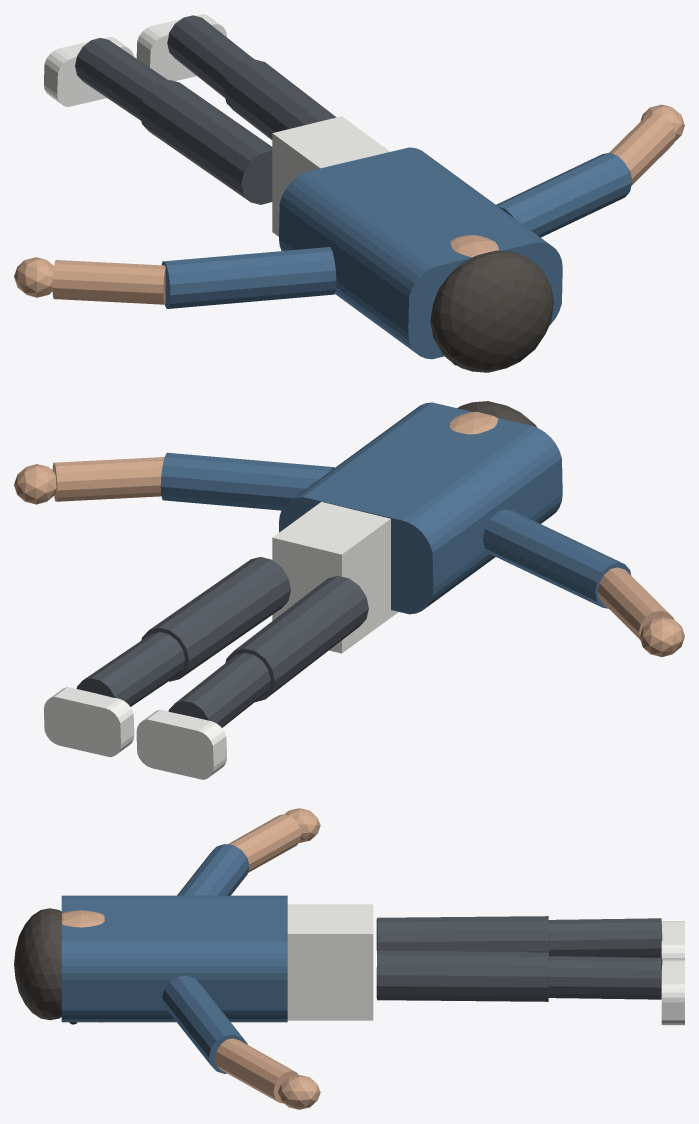
Rendered from CHAR_MALE_001.glb.
The picture shows the model from 3 angles, top to bottom: view 1: azimuth 30°, elevation 25°; view 2: azimuth 150°, elevation 25°; view 3: azimuth 270°, elevation 25°; orthographic projection. The views are drawn at different scales.
Parts seen in each view (by area): view 1: torso_jacket_003, hair_cap_001, thigh_011, upper_arm_005, upper_arm_008, shirt_panel_004, thigh_014, forearm_006, shin_012, shin_015, forearm_009, shoe_013 (+4 smaller); view 2: torso_jacket_003, shirt_panel_004, thigh_014, thigh_011, upper_arm_008, upper_arm_005, shoe_013, shoe_016, shin_015, forearm_009, shin_012, forearm_006 (+4 smaller); view 3: torso_jacket_003, shirt_panel_004, thigh_014, thigh_011, shin_015, hair_cap_001, shin_012, upper_arm_008, forearm_009, upper_arm_005, forearm_006, shoe_016 (+4 smaller).
Boxes of the visible parts, <box> form: torso_jacket_003: <box>279,147,562,359</box>; hair_cap_001: <box>430,250,553,372</box>; thigh_011: <box>139,80,272,204</box>; upper_arm_005: <box>161,247,336,308</box>; upper_arm_008: <box>496,152,631,237</box>; shirt_panel_004: <box>272,116,390,236</box>; thigh_014: <box>224,59,336,139</box>; forearm_006: <box>52,260,165,304</box>; shin_012: <box>75,38,167,120</box>; shin_015: <box>167,15,254,97</box>; forearm_009: <box>609,114,675,185</box>; shoe_013: <box>44,37,133,106</box>; torso_jacket_003: <box>279,402,562,614</box>; shirt_panel_004: <box>272,502,398,653</box>; thigh_014: <box>141,557,290,681</box>; thigh_011: <box>225,576,368,702</box>; upper_arm_008: <box>160,452,334,510</box>; upper_arm_005: <box>483,509,631,608</box>; shoe_013: <box>136,709,226,779</box>; shoe_016: <box>43,687,134,757</box>; shin_015: <box>76,632,184,706</box>; forearm_009: <box>52,457,164,501</box>; shin_012: <box>168,652,270,727</box>; forearm_006: <box>598,567,673,639</box>; torso_jacket_003: <box>61,895,287,1022</box>; shirt_panel_004: <box>287,904,373,1020</box>; thigh_014: <box>376,950,548,1001</box>; thigh_011: <box>376,916,549,955</box>; shin_015: <box>548,956,662,999</box>; hair_cap_001: <box>14,908,61,1020</box>; shin_012: <box>548,918,662,957</box>; upper_arm_008: <box>162,975,247,1073</box>; forearm_009: <box>215,1038,298,1103</box>; upper_arm_005: <box>177,844,249,895</box>; forearm_006: <box>228,814,301,872</box>; shoe_016: <box>661,960,684,1025</box>.
Bounding box in the file's own units: 1.72 × 0.2918 × 1.72.
